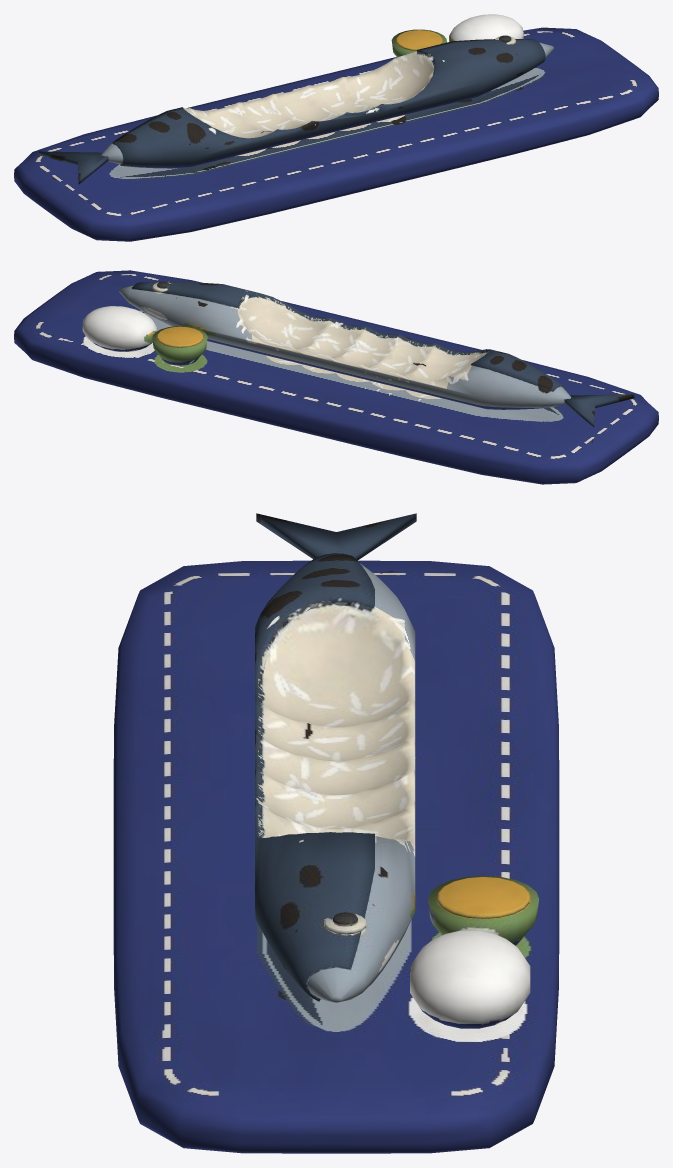
The model's file is sanma_b1.glb.
3 views of the same model, one above another, from view 1: azimuth 30°, elevation 25°; view 2: azimuth 150°, elevation 25°; view 3: azimuth 270°, elevation 25° (orthographic). The views are drawn at different scales.
Visible parts, largest first — view 1: prop_sanma_b1_felt; view 2: prop_sanma_b1_felt; view 3: prop_sanma_b1_felt.
Boxes of the visible parts, bbox=[...] form: prop_sanma_b1_felt: bbox=[14, 14, 658, 241]; prop_sanma_b1_felt: bbox=[14, 270, 658, 484]; prop_sanma_b1_felt: bbox=[113, 513, 559, 1153].
Bounding box in the file's own units: 0.45 × 0.054 × 0.15.
Materials: 1 (1 with a texture image).
